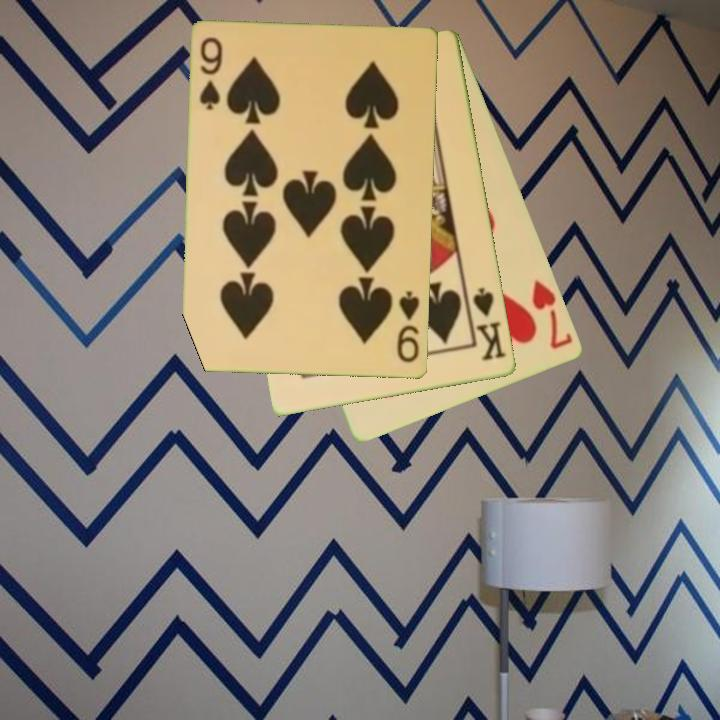7h: (529, 277, 576, 352)
9s: (393, 288, 423, 366), (196, 34, 225, 113)
Ks: (464, 284, 509, 364)
